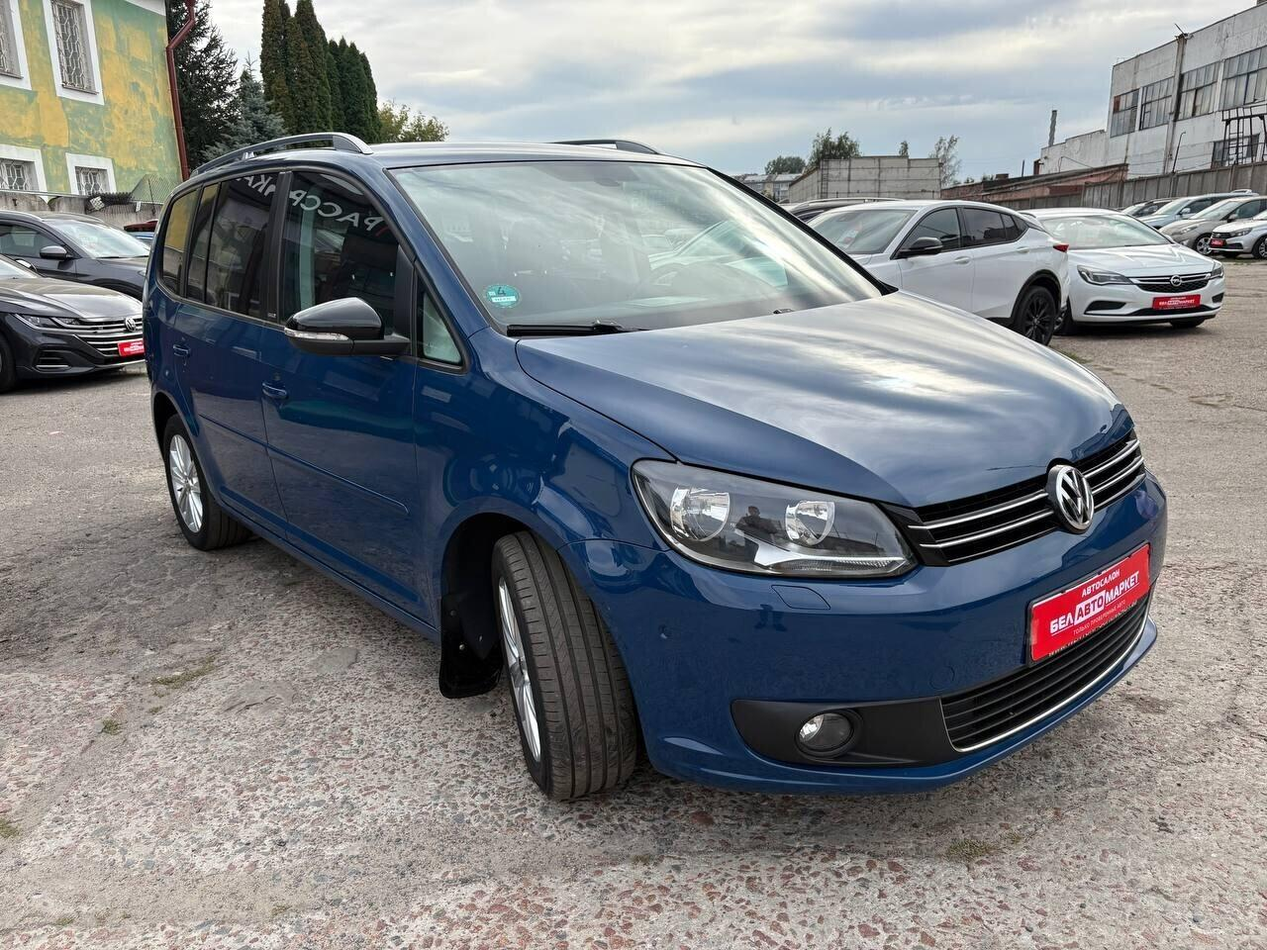Touran_2010-2015: (142, 137, 1170, 813)
